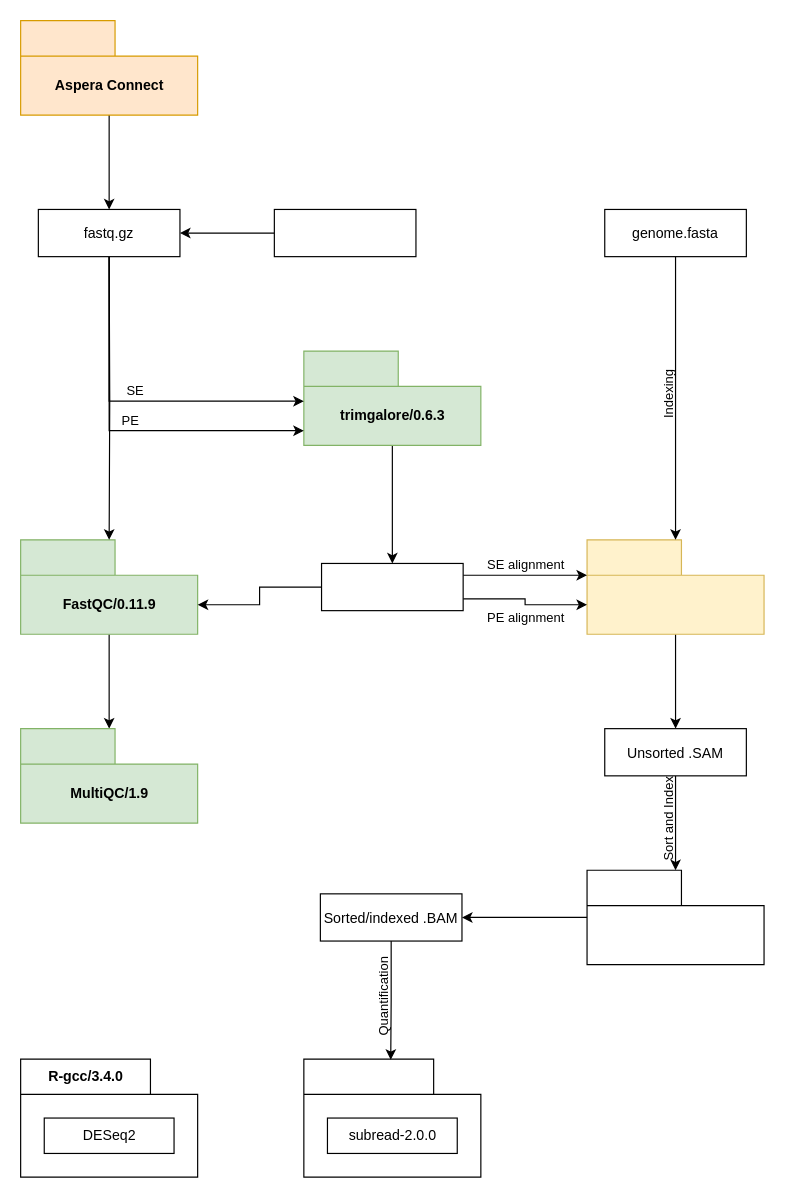
Image size: 785x1198. Some labels were removed from this diagram. Each missing label, with the centre of its shape:
"Conda" belongs at pixel 392 1117.
"hisat-gcc/2.1.0" belongs at pixel 675 586.
"local fastq.gz" belongs at pixel 344 232.
"samtools-gcc/1.9" belongs at pixel 675 917.
"trimmed fastq.gz" belongs at pixel 391 586.
